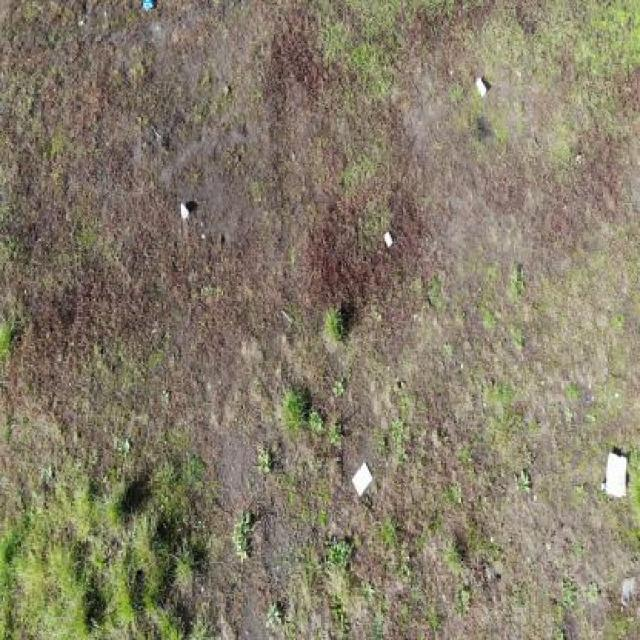Garbage: (606, 450, 628, 501), (350, 461, 374, 498), (473, 75, 489, 98), (382, 230, 395, 251), (177, 203, 190, 220), (143, 0, 154, 12)
